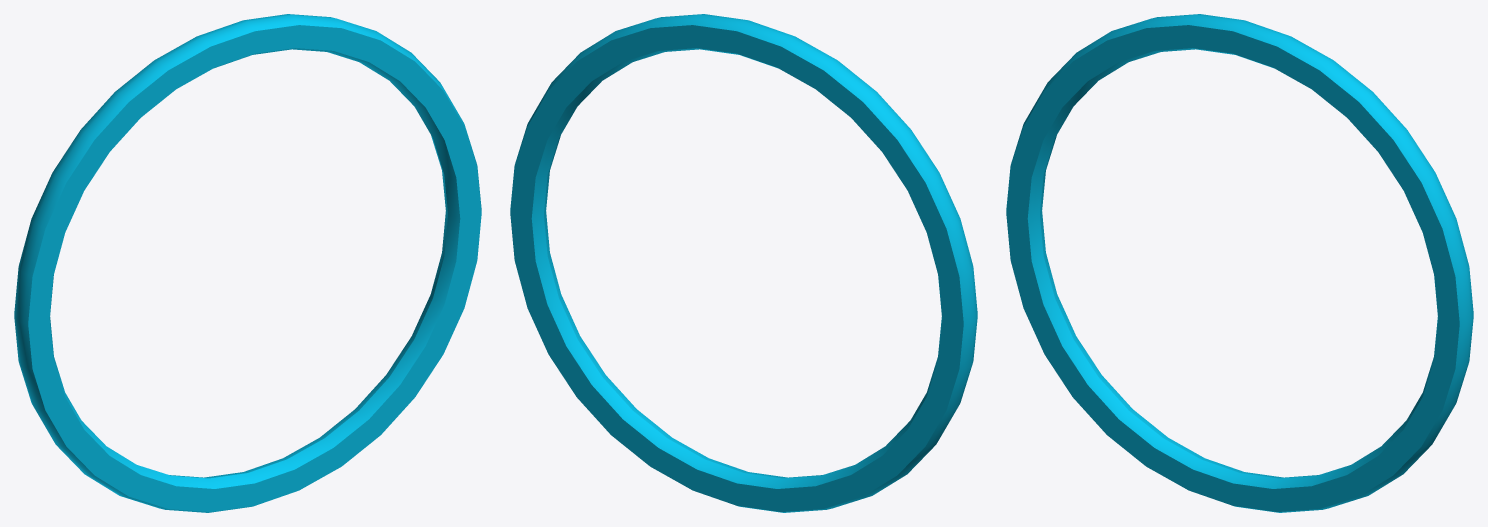
Rendered from PositiveHoleModel.fbx.
3 views of the same model, side by side, from view 1: azimuth 30°, elevation 25°; view 2: azimuth 150°, elevation 25°; view 3: azimuth 330°, elevation 25° (orthographic).
Parts seen in each view (by area): view 1: Cylinder.013; view 2: Cylinder.013; view 3: Cylinder.013.
Part boxes in pixels (box(x1,y1,x2,y2)): Cylinder.013: box(14, 14, 481, 512); Cylinder.013: box(510, 14, 977, 512); Cylinder.013: box(1006, 14, 1473, 512).
Size of the model in its own units: 146 by 146 by 7.63.
Materials: 1 (1 with a texture image).
